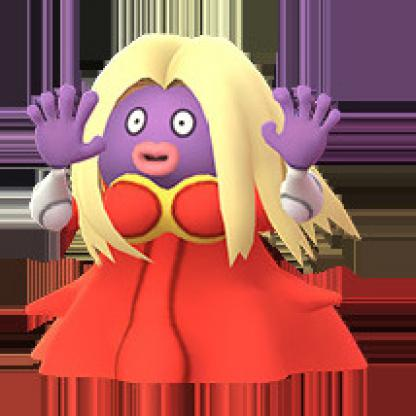Jynx: (28, 25, 381, 382)
